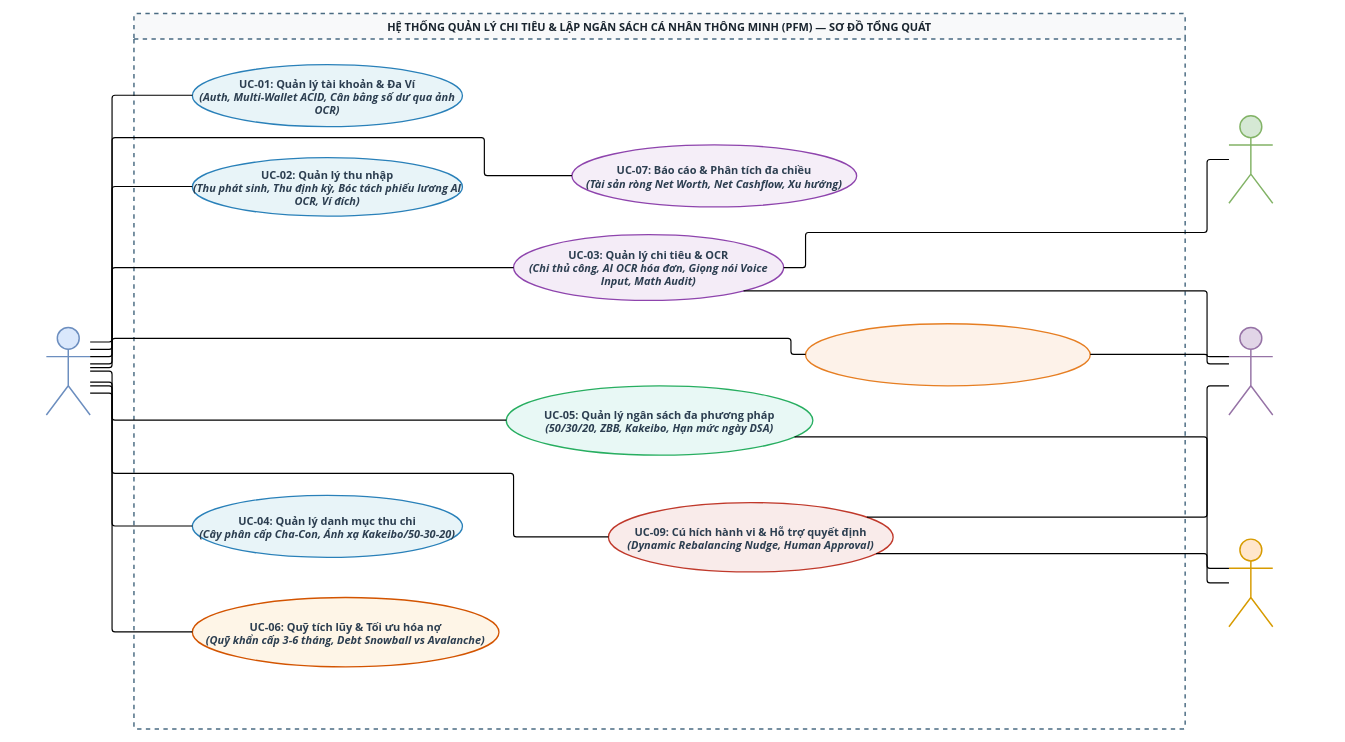
The diagram is 1345 pixels wide and 742 high, and some of its shapes have lost their labels. The shapes that lost their labels are listed below. From the top down, each one's centre as x and y in pixels, then its label:
At point 1250,159: "VietQR Gateway (NAPAS 247)".
At point 68,370: "Người dùng cá nhân (Personal User)".
At point 948,354: "UC-08: Dự báo tài chính & Rủi ro (Dự phóng Ngày cạn tiền, Mô phỏng What-If)".
At point 1250,370: "Dịch vụ AI Đa phương thức (AI Multimodal Service)".
At point 1250,582: "Dịch vụ Thông báo & Cảnh báo (Notification Service)".
